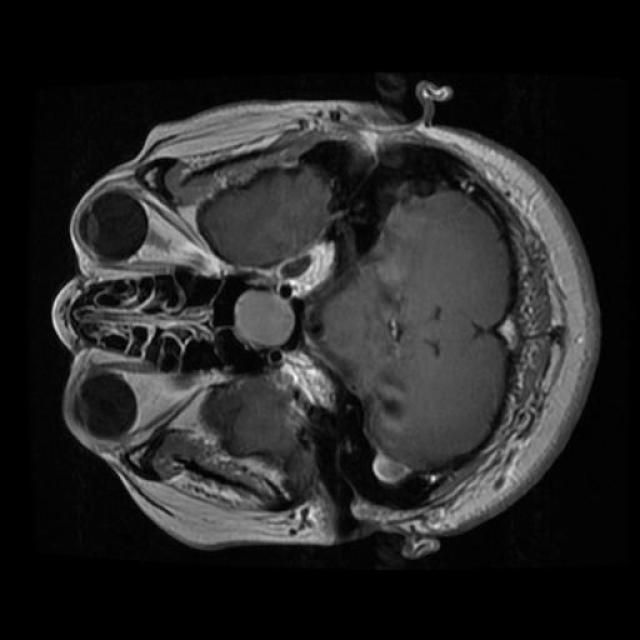Pituitary: (233, 289, 295, 349)
